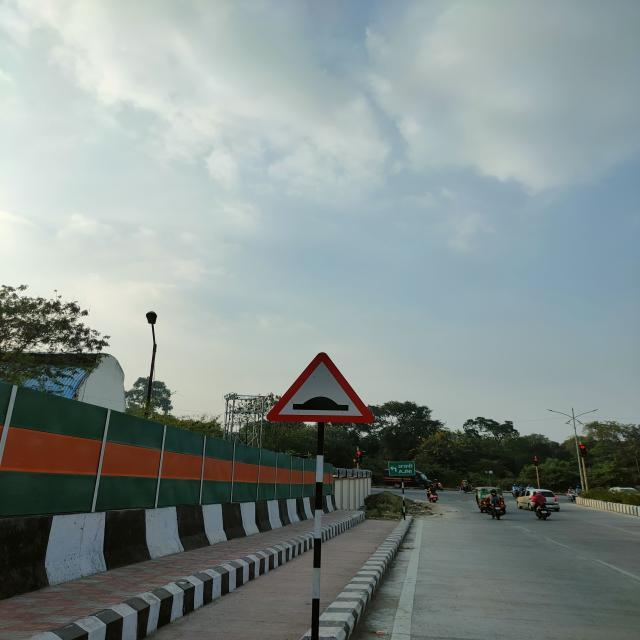hump or rough road: (263, 347, 380, 430)
